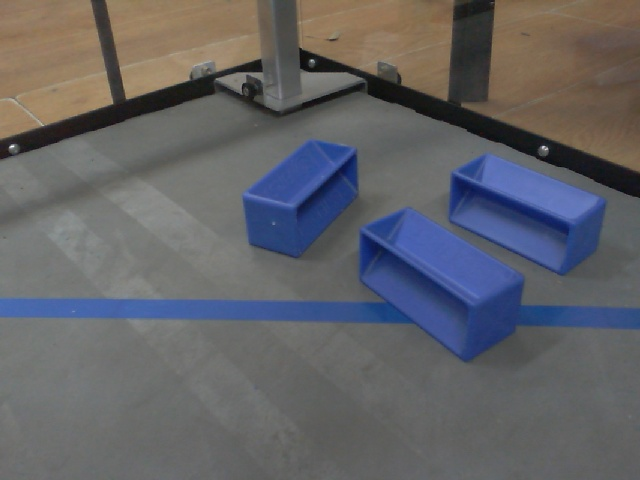BlueSample: (355, 201, 529, 371), (447, 148, 612, 281), (239, 135, 357, 262)
